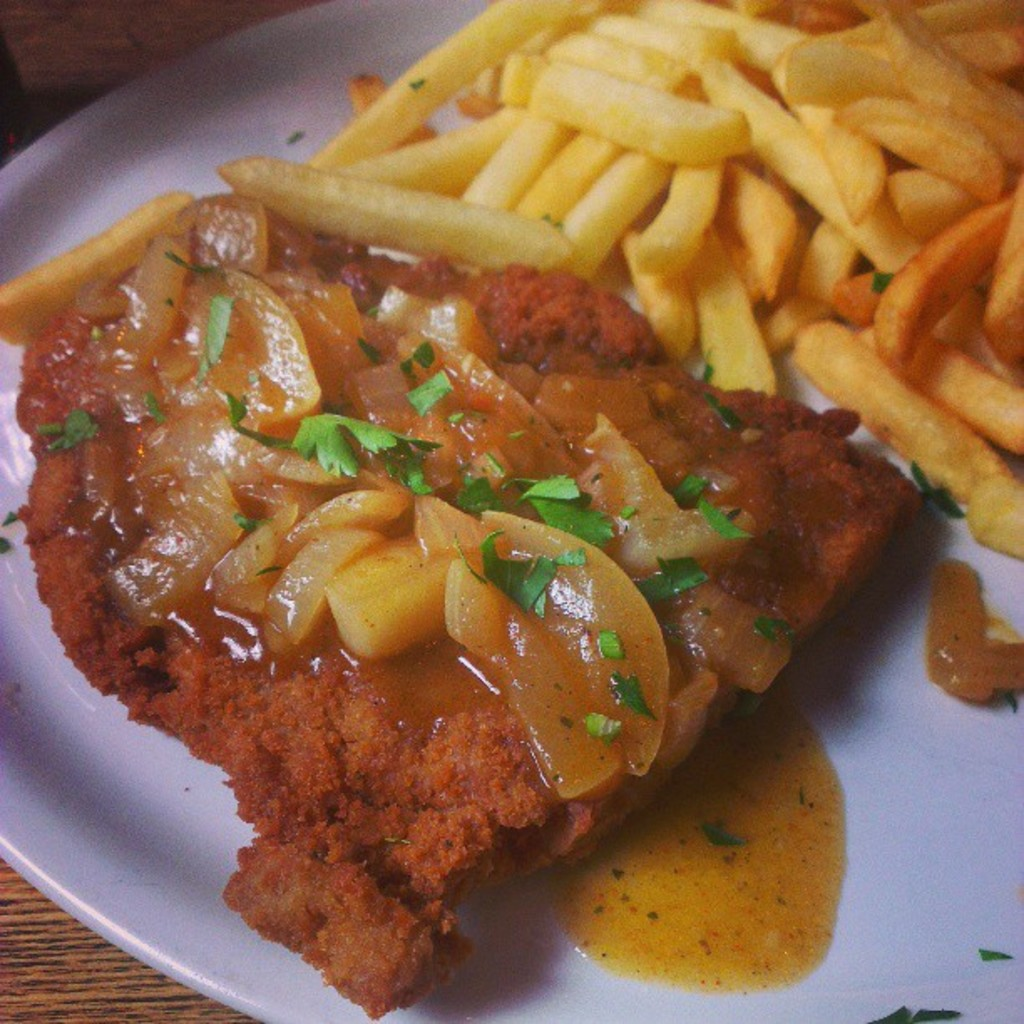French fries: (170, 0, 1008, 421)
